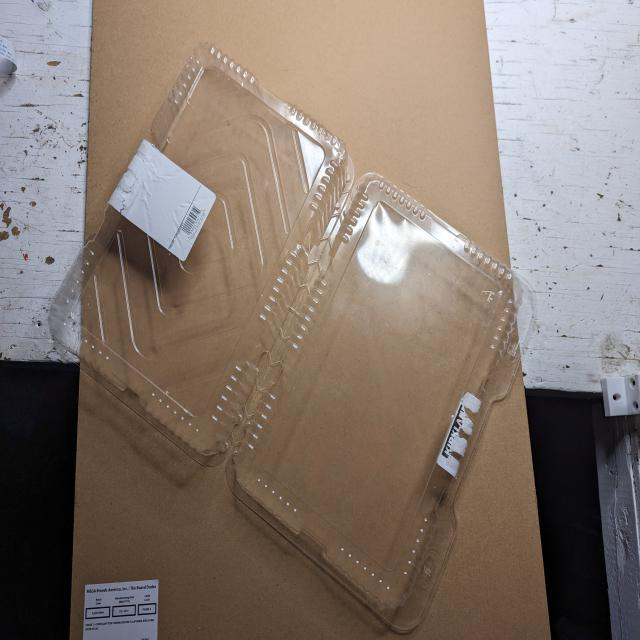Clamshell: (33, 31, 551, 640)
Label: (103, 139, 222, 264), (425, 366, 488, 492)
